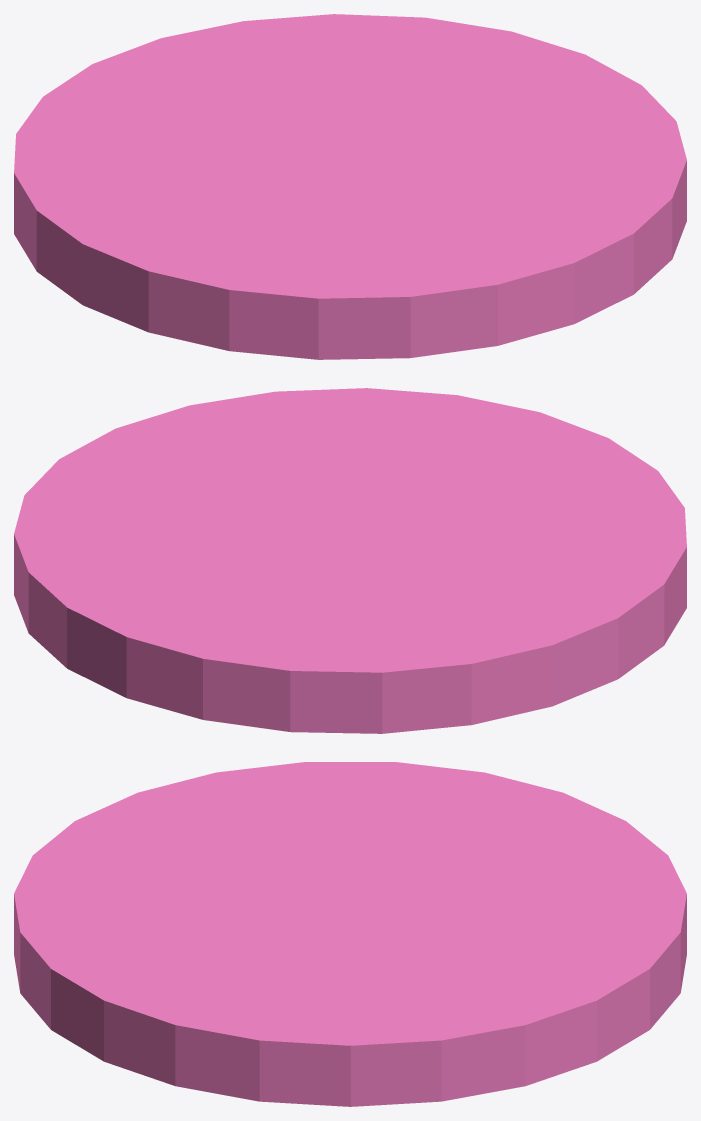
The model's file is round_platform1.glb.
3 views of the same model, one above another, from view 1: azimuth 30°, elevation 25°; view 2: azimuth 150°, elevation 25°; view 3: azimuth 270°, elevation 25° (orthographic).
Bounding box in the file's own units: 0.9953 × 0.1 × 0.9977.
